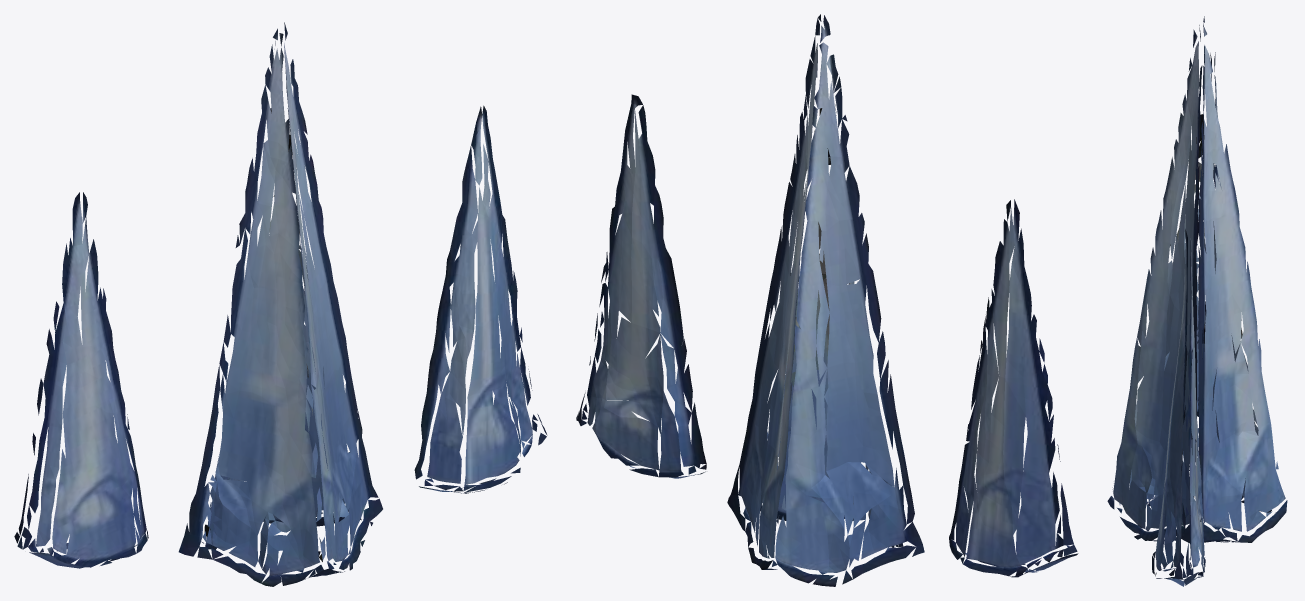
File: spikey.glb
3 views of the same model, side by side, from view 1: azimuth 30°, elevation 25°; view 2: azimuth 150°, elevation 25°; view 3: azimuth 270°, elevation 25° (orthographic). The views are drawn at different scales.
Parts seen in each view (by area): view 1: world.001; view 2: world.001; view 3: world.001.
Boxes of the visible parts, x1,y1,x2,y2 form: world.001: (14,22,547,586); world.001: (576,14,1078,586); world.001: (1107,16,1287,586).
Bounding box in the file's own units: 0.9947 × 0.9979 × 0.3252.
1 material, 1 textured.
